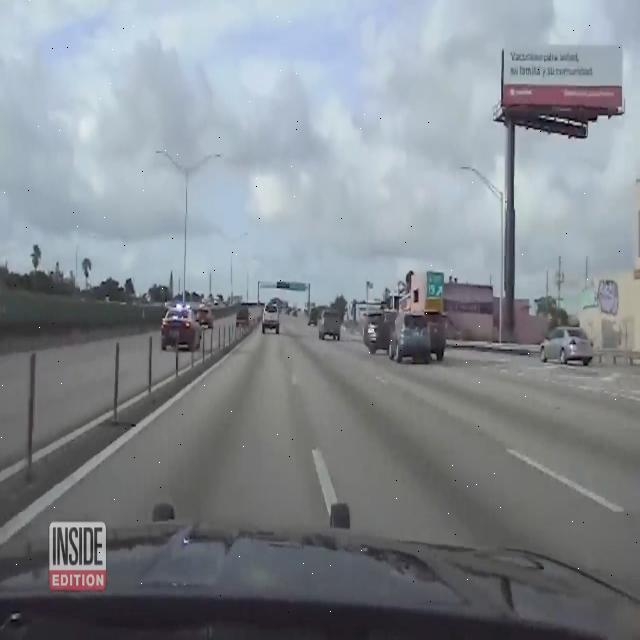accident: (391, 290, 450, 376)
